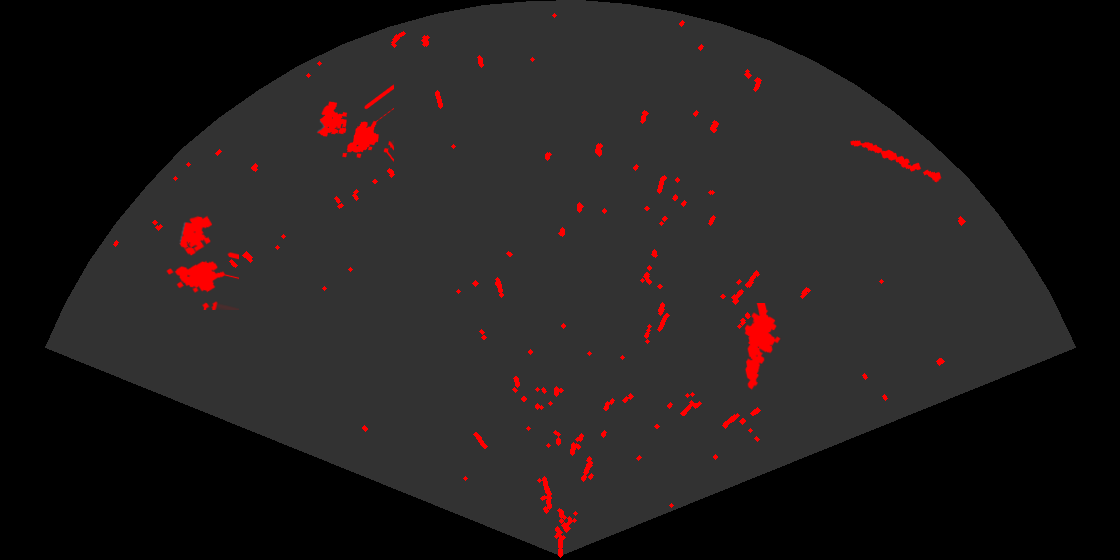cage: (165, 214, 239, 310), (316, 83, 394, 163)
chain: (849, 139, 943, 184)
frogman: (743, 303, 782, 391)
